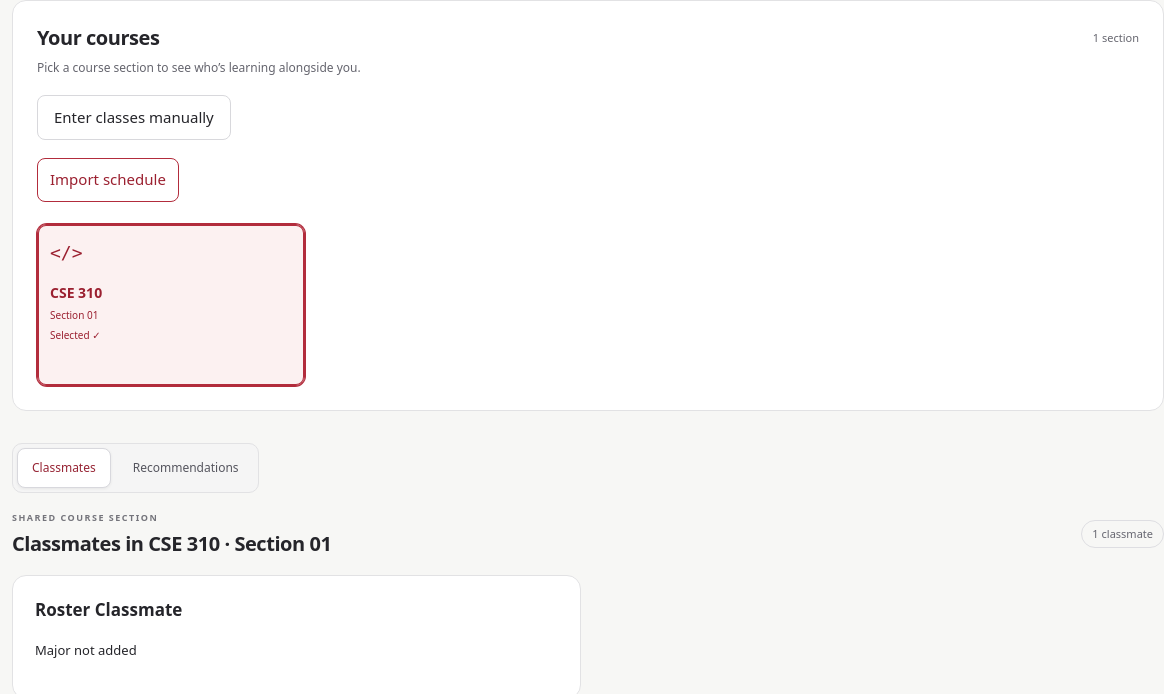
Test: course recommendation dashboard › shows zero points when no comparison fields are available and omits private details
Click the button "Recommendations": (186, 468) x1=118 y1=448 x2=254 y2=488
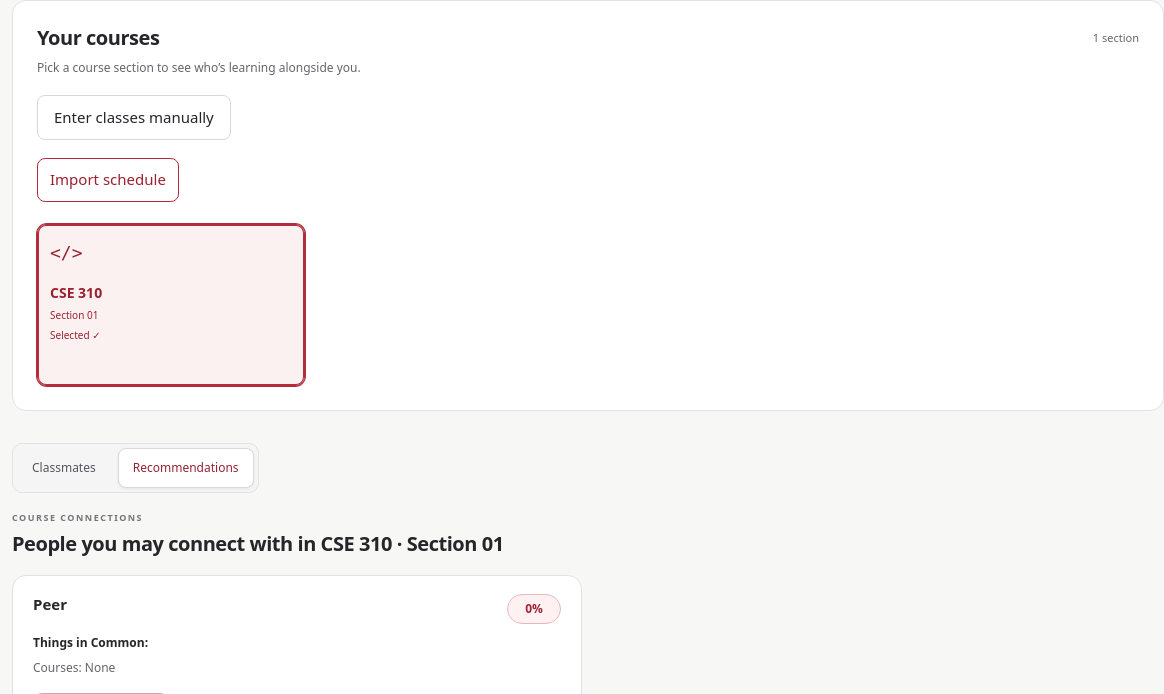
Result: the heading "Peer" is shown at x1=33 y1=594 x2=67 y2=615
